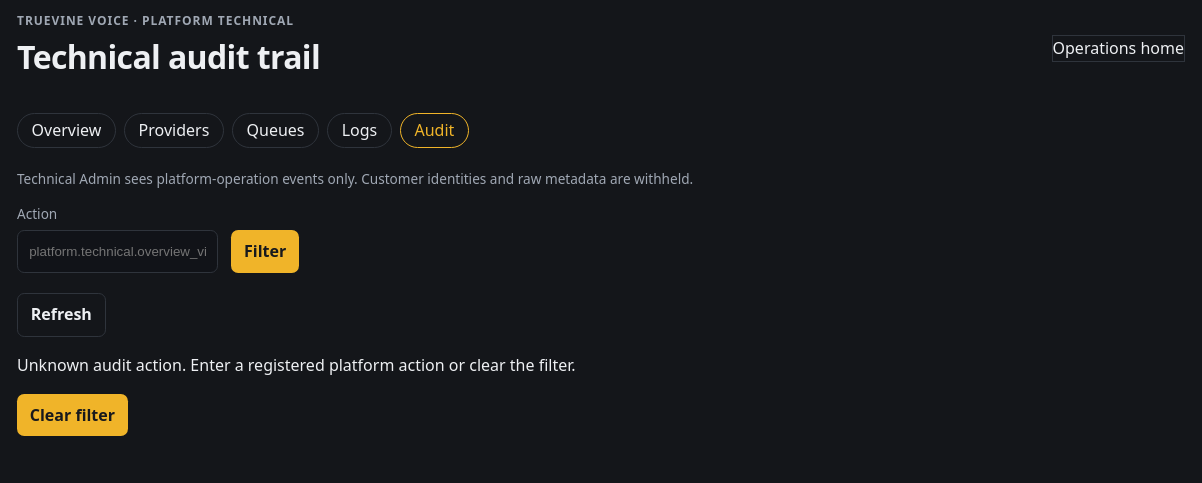
Scenario: Technical Admin pages › explains audit query error 400/invalid_action and recovers by clearing it
expect the message "Unknown audit action. Enter a registered platform action or clear the filter." is shown: met, box [17, 354, 576, 376]
What coordinates should you click on to do the following:
click the button "Clear filter"
I would click on:
 (72, 415)
Its box is [17, 394, 128, 436].
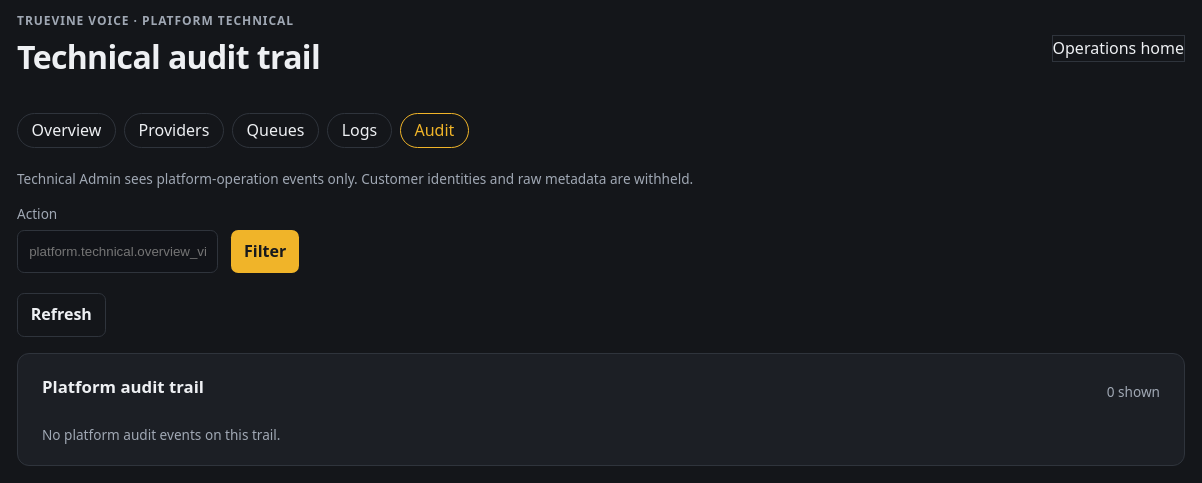
expect the text "No platform audit events" is shown: met, box [42, 425, 280, 444]
expect the message "Unknown audit action. Enter a registered platform action or clear the filter." is gone: met
